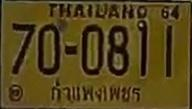0: (38, 23, 60, 74), (81, 24, 103, 74)
1: (138, 21, 148, 76), (165, 24, 172, 76)
7: (11, 22, 35, 74)
8: (107, 24, 128, 74)
KPT: (47, 78, 147, 105)
